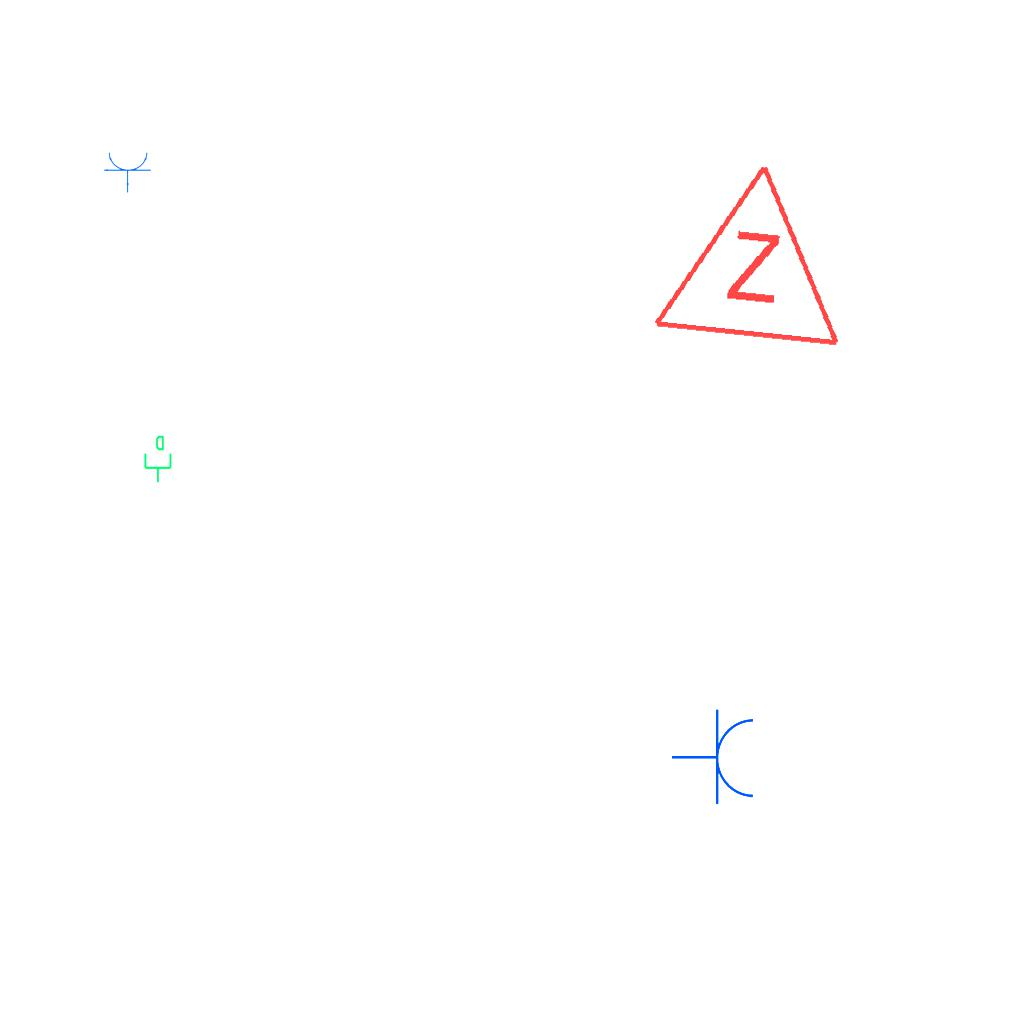Datenanschluss_einfach: (140, 434, 174, 484)
Schukosteckdose_einfach: (671, 708, 758, 808), (103, 150, 153, 193)
Zimmersignalleuchte: (645, 141, 861, 361)
